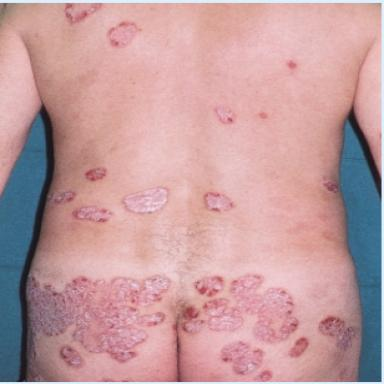Psoriasis: (27, 274, 170, 363), (203, 275, 298, 342), (222, 342, 262, 374), (122, 187, 168, 213), (318, 317, 355, 349), (108, 22, 137, 47), (65, 3, 101, 23), (73, 205, 112, 222), (196, 277, 224, 297), (183, 307, 204, 332), (204, 193, 232, 211), (60, 346, 84, 367), (289, 337, 308, 357), (216, 107, 233, 123), (54, 191, 76, 203), (86, 168, 106, 181), (256, 371, 272, 382)
